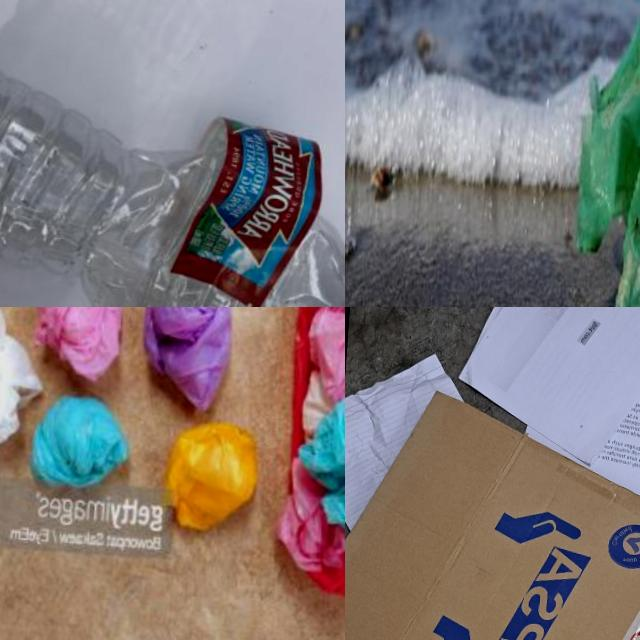garrafa plástica: (0, 43, 345, 307)
papel: (447, 307, 640, 543), (345, 346, 464, 544)
papelão: (345, 385, 640, 640)
sacola plástica: (261, 307, 345, 617), (563, 0, 640, 307), (143, 406, 260, 598), (122, 307, 262, 432), (6, 390, 134, 509), (0, 307, 44, 490), (24, 307, 138, 376)
